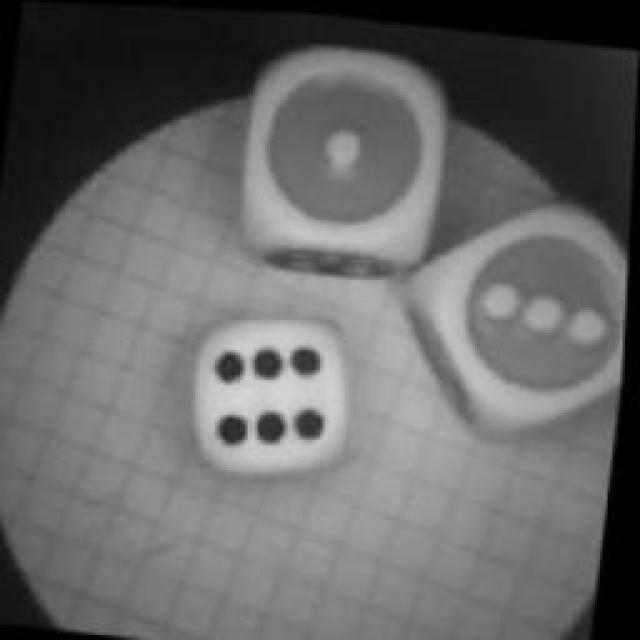dice_1: (219, 19, 466, 279)
dice_3: (395, 174, 635, 436)
dice_6: (171, 292, 369, 488)
